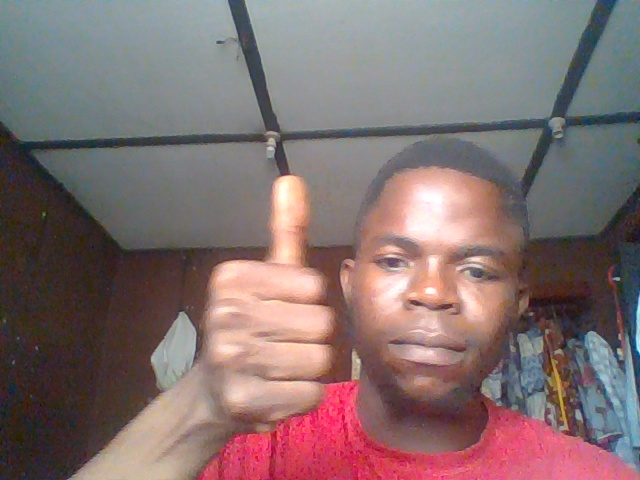Thumbup: (200, 173, 342, 438)
